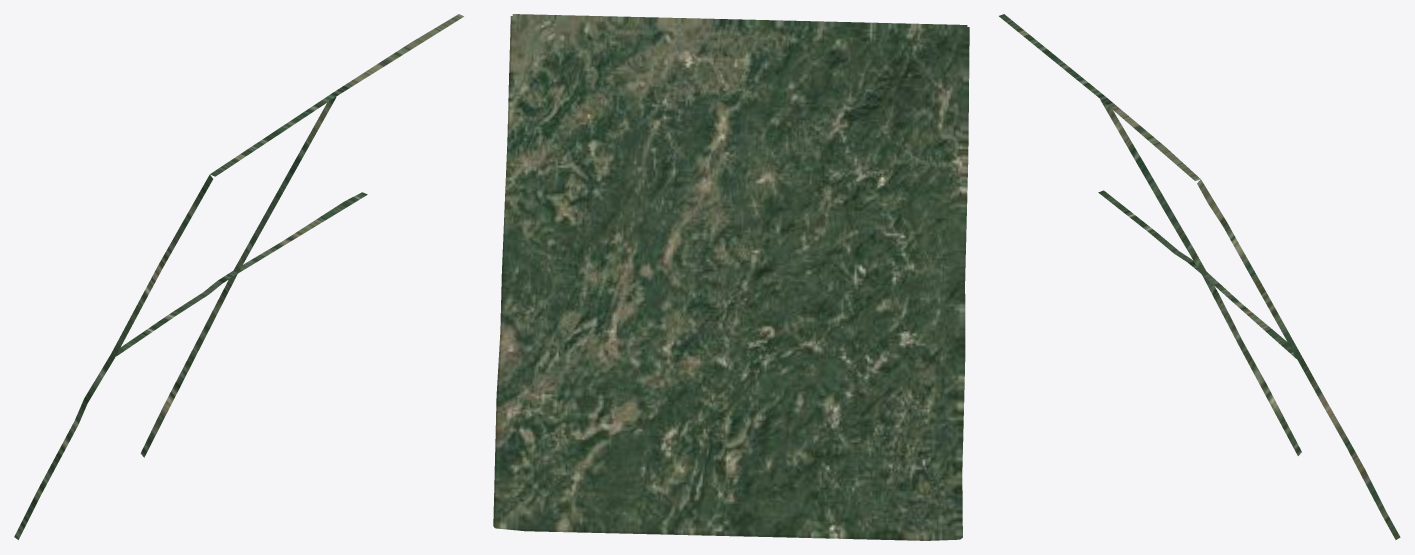
3 renders of one model, left to right at view 1: azimuth 30°, elevation 25°; view 2: azimuth 150°, elevation 25°; view 3: azimuth 270°, elevation 25°, orthographic. The views are drawn at different scales.
Size of the model in its own units: 317808 by 283074 by 255558.
1 material, 1 textured.
